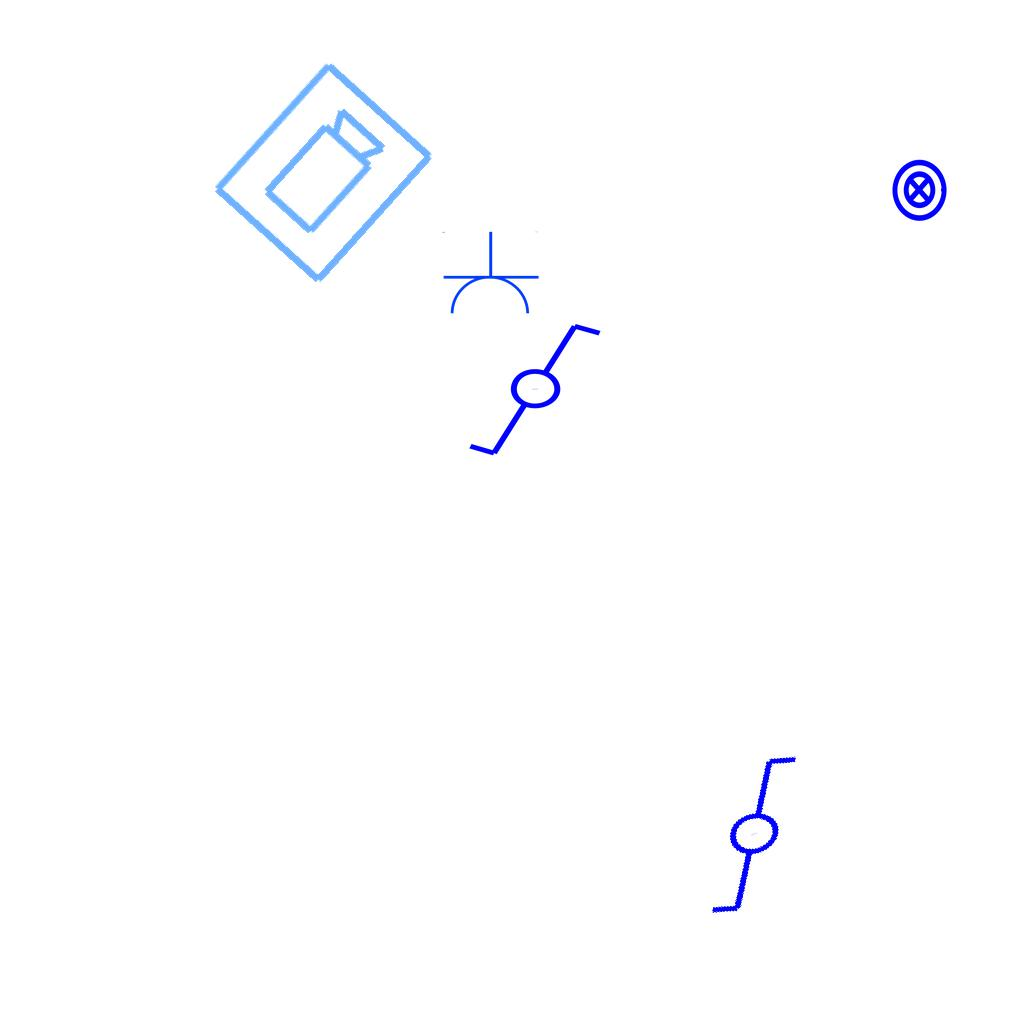KFO_Kamera_mit_Festobjektiv: (205, 54, 443, 294)
Schukosteckdose_einfach: (440, 231, 540, 318)
Taster_beleuchtet: (886, 157, 952, 223)
Wechselschalter: (664, 738, 861, 928), (465, 319, 622, 463)
